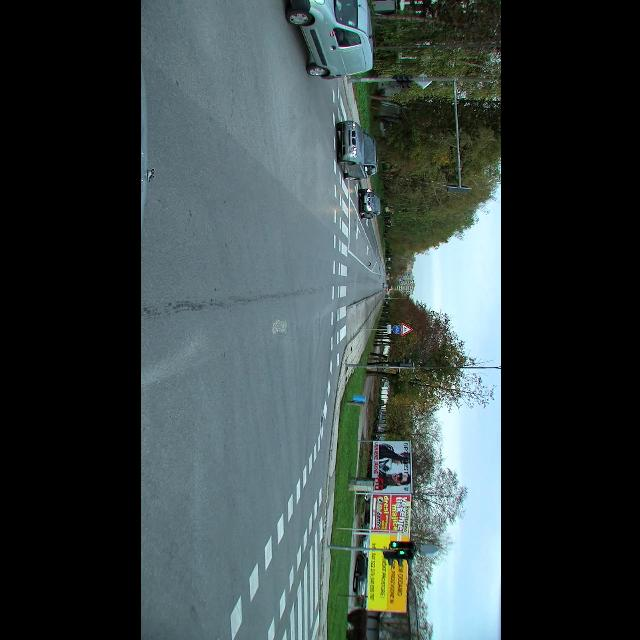Round: (391, 323, 402, 335)
Triangle: (401, 324, 412, 334)
